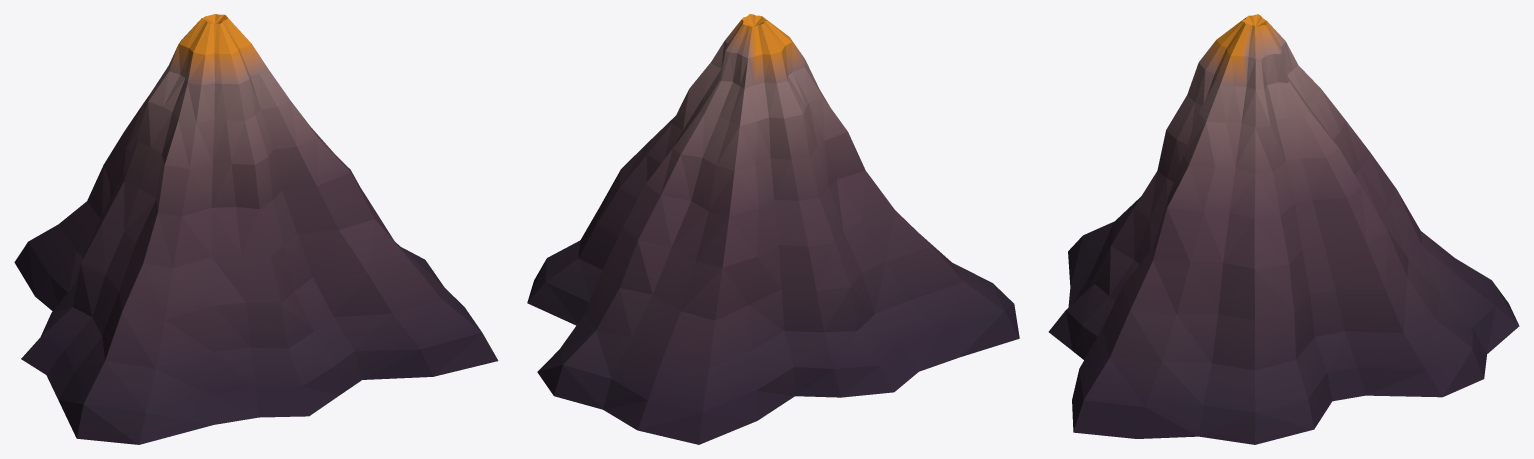
The model's file is volcano-s8-D9zo_qyC.glb.
3 views of the same model, side by side, from view 1: azimuth 30°, elevation 25°; view 2: azimuth 150°, elevation 25°; view 3: azimuth 270°, elevation 25° (orthographic).
Parts seen in each view (by area): view 1: sc_peak_2; view 2: sc_peak_2; view 3: sc_peak_2.
Part boxes in pixels (box(x1,y1,x2,y2)): sc_peak_2: box(14, 14, 498, 444); sc_peak_2: box(527, 14, 1019, 444); sc_peak_2: box(1048, 14, 1519, 444).
Size of the model in its own units: 149 by 107 by 143.
